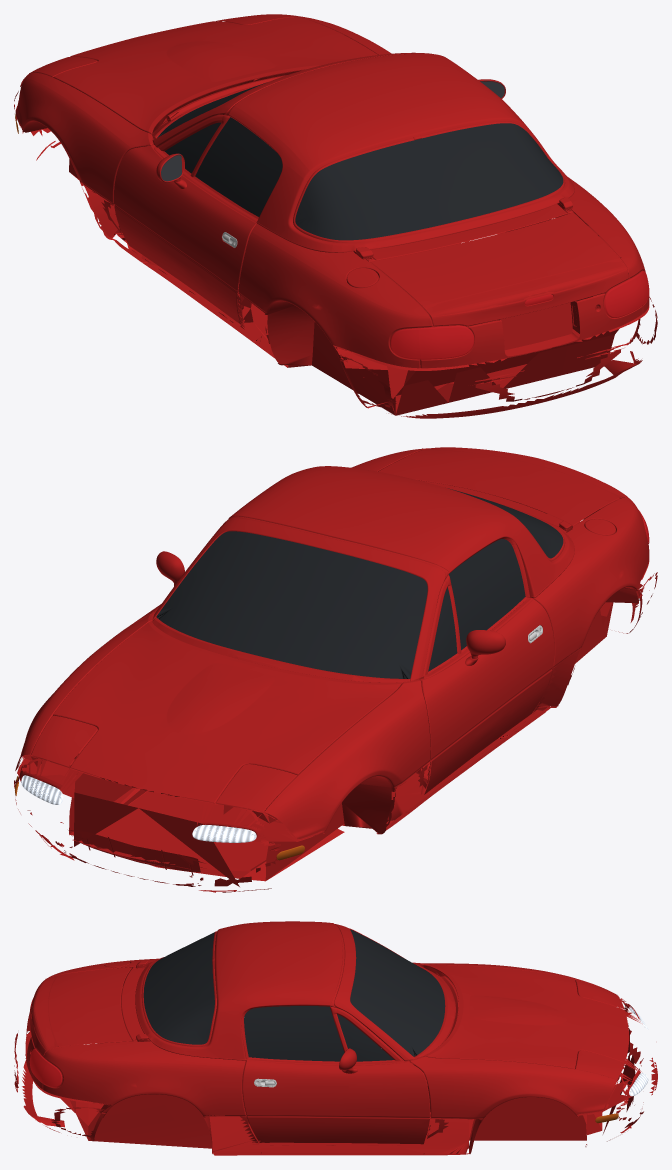
The model's file is na_render.glb.
The picture shows the model from 3 angles, top to bottom: view 1: azimuth 30°, elevation 25°; view 2: azimuth 150°, elevation 25°; view 3: azimuth 270°, elevation 25°; orthographic projection. The views are drawn at different scales.
Parts seen in each view (by area): view 1: Miata_Body_split, Miata_Glass, Miata_Lamp_Tail; view 2: Miata_Body_split, Miata_Glass, Miata_Lamp_Running; view 3: Miata_Body_split, Miata_Glass, Miata_Lamp_Tail, Miata_Lamp_Running.
Part boxes in pixels (x1,y1,x2,y2): Miata_Body_split: (14,14,657,418); Miata_Glass: (157,82,563,240); Miata_Lamp_Tail: (390,271,649,359); Miata_Body_split: (14,447,657,892); Miata_Glass: (156,488,563,678); Miata_Lamp_Running: (21,775,256,842); Miata_Body_split: (14,921,657,1155); Miata_Glass: (143,929,445,1061); Miata_Lamp_Tail: (29,998,62,1087); Miata_Lamp_Running: (629,1006,648,1096).
Size of the model in its own units: 74.02 by 43.83 by 159.
